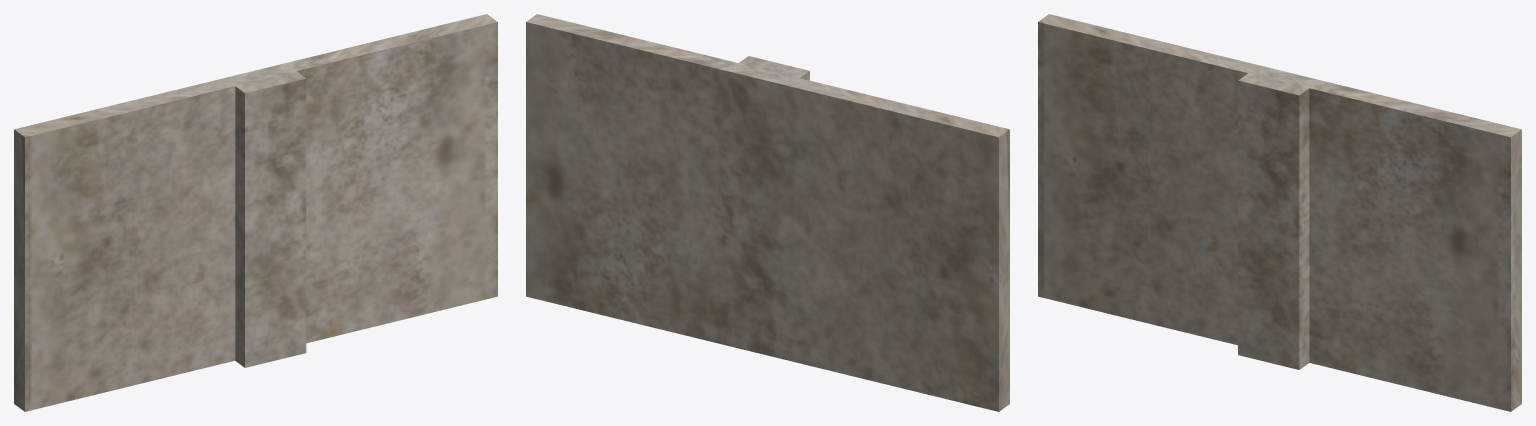
Rendered from WallBig1.fbx.
The picture shows the model from 3 angles, left to right: view 1: azimuth 30°, elevation 25°; view 2: azimuth 150°, elevation 25°; view 3: azimuth 330°, elevation 25°; orthographic projection.
Parts seen in each view (by area): view 1: Wall2UnitEmpty.001; view 2: Wall2UnitEmpty.001; view 3: Wall2UnitEmpty.001.
Boxes of the visible parts, x1,y1,x2,y2 form: Wall2UnitEmpty.001: (14, 14, 497, 411); Wall2UnitEmpty.001: (526, 14, 1009, 411); Wall2UnitEmpty.001: (1038, 14, 1521, 411).
Bounding box in the file's own units: 499 × 277 × 38.22.
